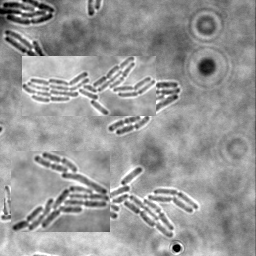Dividing: (4, 185, 15, 215)
Microcolony: (40, 167, 199, 238), (22, 56, 156, 116), (11, 151, 110, 232), (5, 30, 52, 72), (1, 1, 56, 26)
